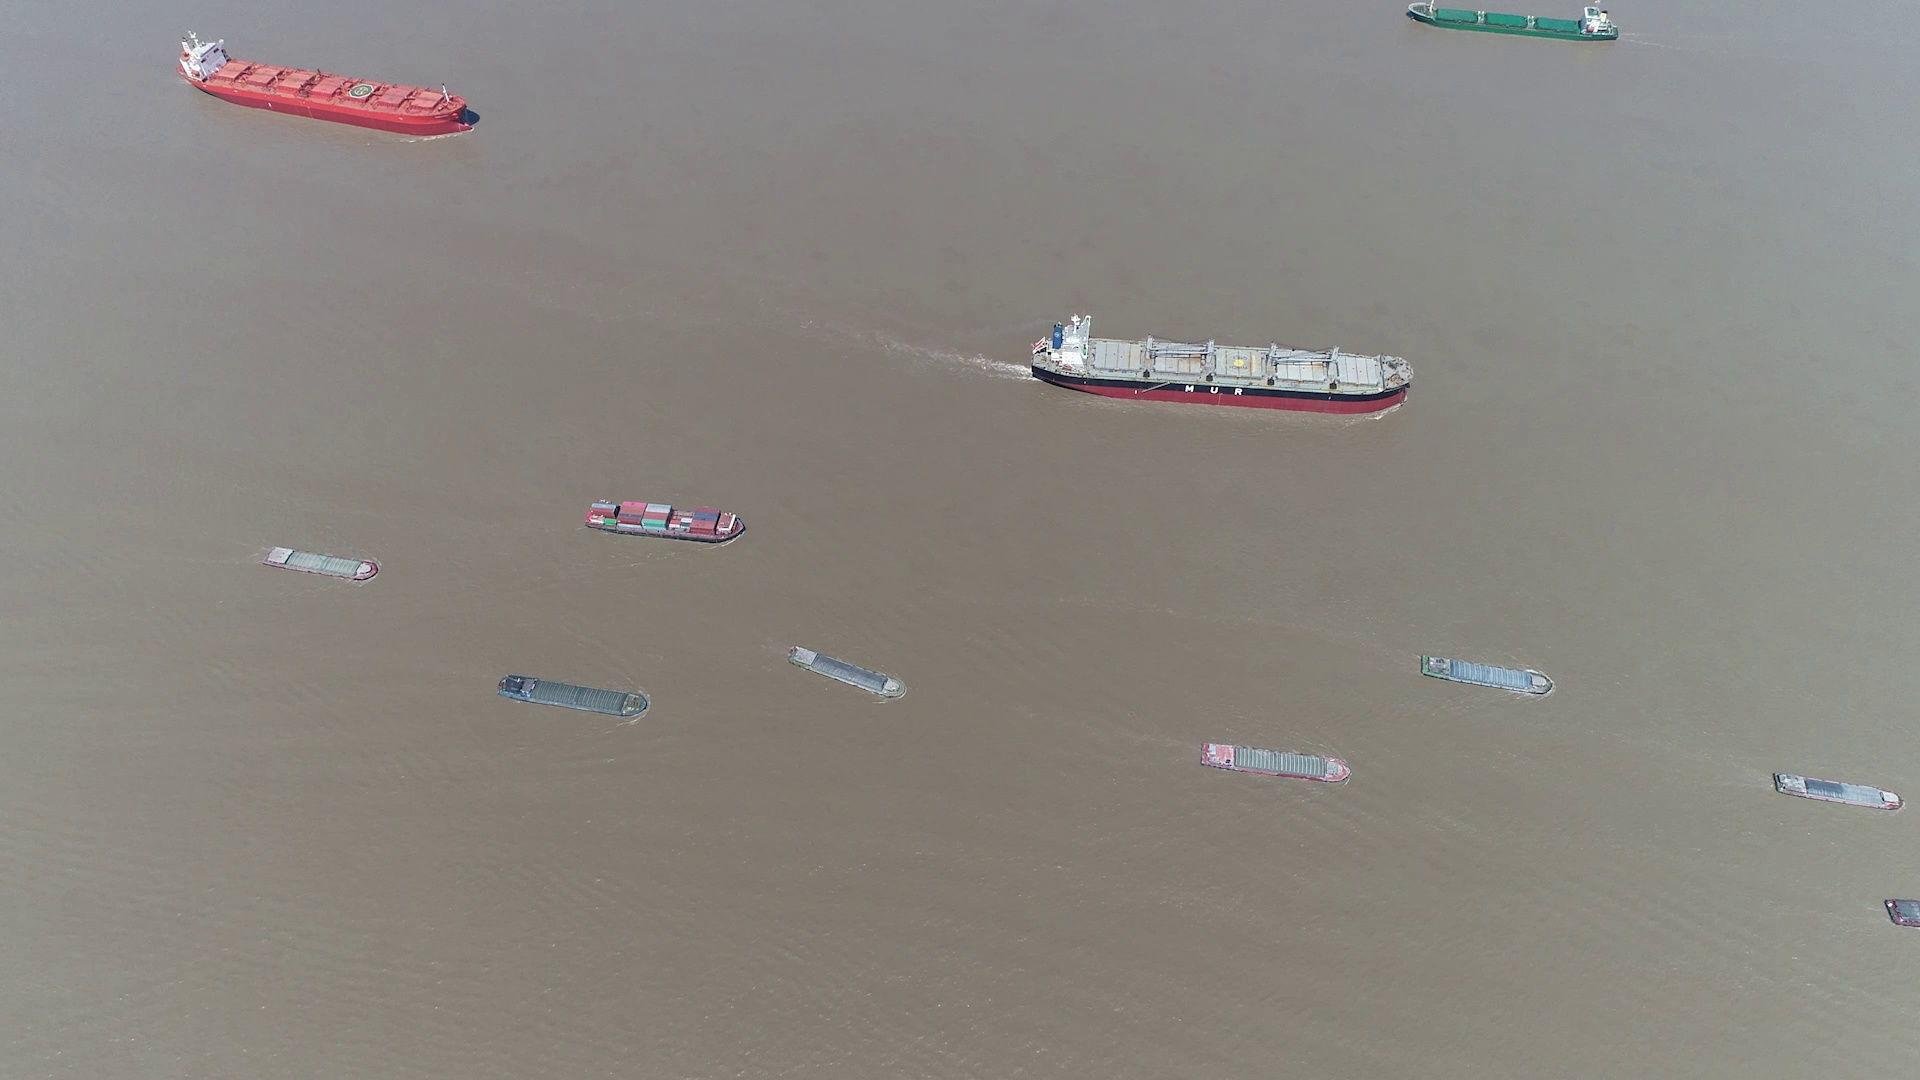ship: (1031, 313, 1411, 411), (178, 26, 476, 137), (1407, 5, 1619, 42), (584, 496, 745, 542), (497, 674, 651, 717), (790, 646, 906, 699), (1201, 742, 1349, 781), (1772, 770, 1903, 811), (1423, 657, 1552, 695), (262, 546, 377, 580), (1884, 899, 1917, 930)
